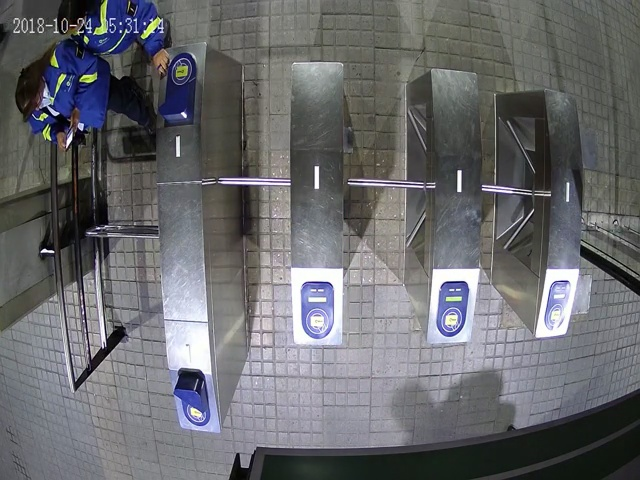Chaleco_azul: (15, 38, 158, 151), (57, 1, 174, 69)
